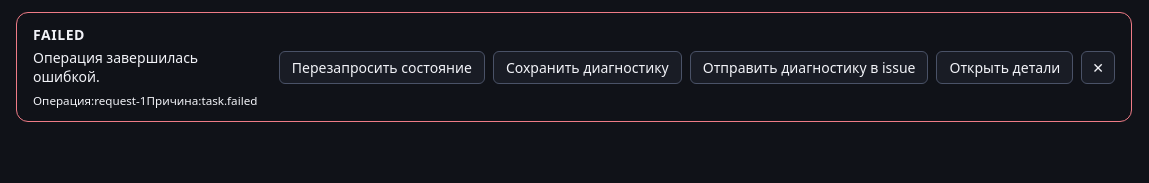
Scenario: recovery contract › explains why a resync is impossible instead of staying silent
Step 1. Click the button "Перезапросить состояние" → (382, 67), box [279, 50, 485, 84]
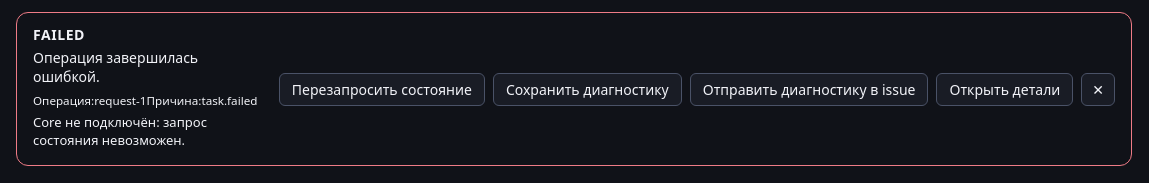
Check: the text "Core не подключён: запрос состояния невозможен." is shown, box [33, 113, 207, 149]
